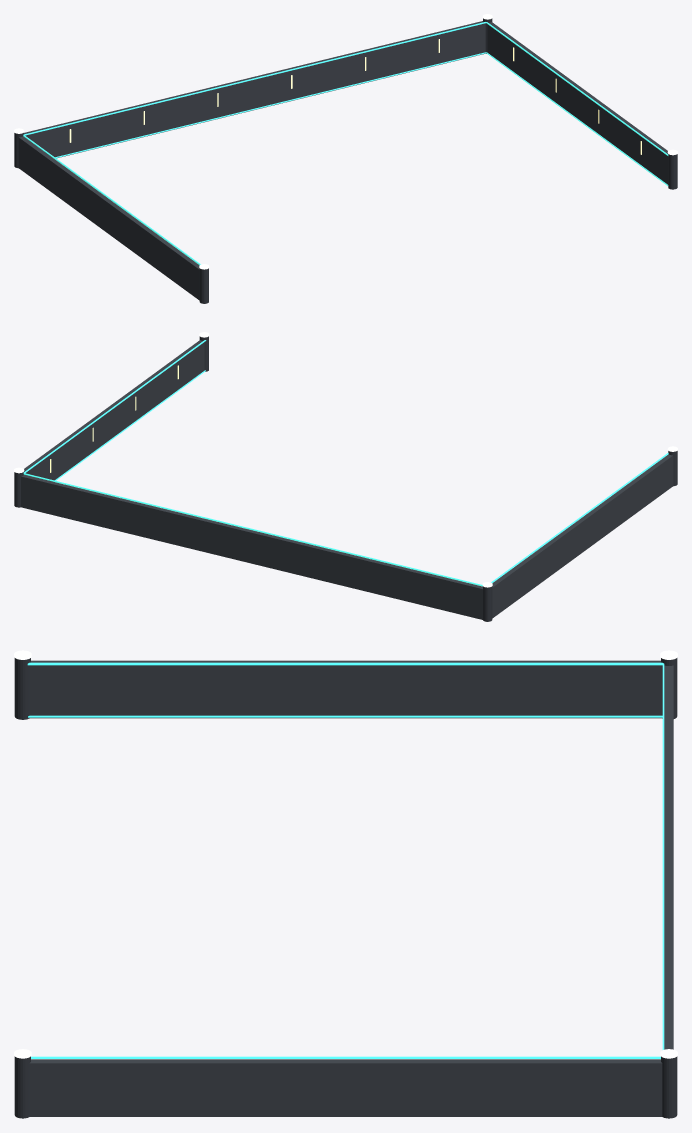
File: park_walls.glb
The picture shows the model from 3 angles, top to bottom: view 1: azimuth 30°, elevation 25°; view 2: azimuth 150°, elevation 25°; view 3: azimuth 270°, elevation 25°; orthographic projection. The views are drawn at different scales.
Visible parts, largest first — view 1: part_wall_b, part_wall_l, part_wall_r, part_trim_b, part_basetrim_b, part_trim_r, part_trim_l; view 2: part_wall_b, part_wall_l, part_wall_r, part_trim_b, part_trim_r, part_trim_l; view 3: part_wall_r, part_wall_l, part_wall_b, part_trim_l, part_basetrim_l, part_trim_r, part_trim_b, part_post_1, part_post_3, part_post_2.
Part boxes in pixels (bbox=[...]): part_wall_b: bbox=[23, 21, 485, 158]; part_wall_l: bbox=[18, 136, 199, 300]; part_wall_r: bbox=[487, 22, 668, 184]; part_trim_b: bbox=[23, 22, 486, 135]; part_basetrim_b: bbox=[55, 52, 486, 157]; part_trim_r: bbox=[486, 22, 668, 155]; part_trim_l: bbox=[23, 135, 200, 264]; part_wall_b: bbox=[21, 474, 482, 619]; part_wall_l: bbox=[492, 454, 673, 618]; part_wall_r: bbox=[24, 340, 204, 480]; part_trim_b: bbox=[23, 473, 482, 586]; part_trim_r: bbox=[23, 340, 206, 472]; part_trim_l: bbox=[491, 453, 668, 582]; part_wall_r: bbox=[29, 1059, 662, 1116]; part_wall_l: bbox=[29, 660, 662, 718]; part_wall_b: bbox=[664, 665, 673, 1049]; part_trim_l: bbox=[27, 662, 662, 665]; part_basetrim_l: bbox=[28, 715, 662, 717]; part_trim_r: bbox=[31, 1056, 660, 1058]; part_trim_b: bbox=[662, 663, 664, 1049]; part_post_1: bbox=[661, 1056, 677, 1118]; part_post_3: bbox=[14, 1056, 30, 1118]; part_post_2: bbox=[14, 658, 30, 719].
Size of the model in its own units: 25.88 by 1.85 by 17.88.
